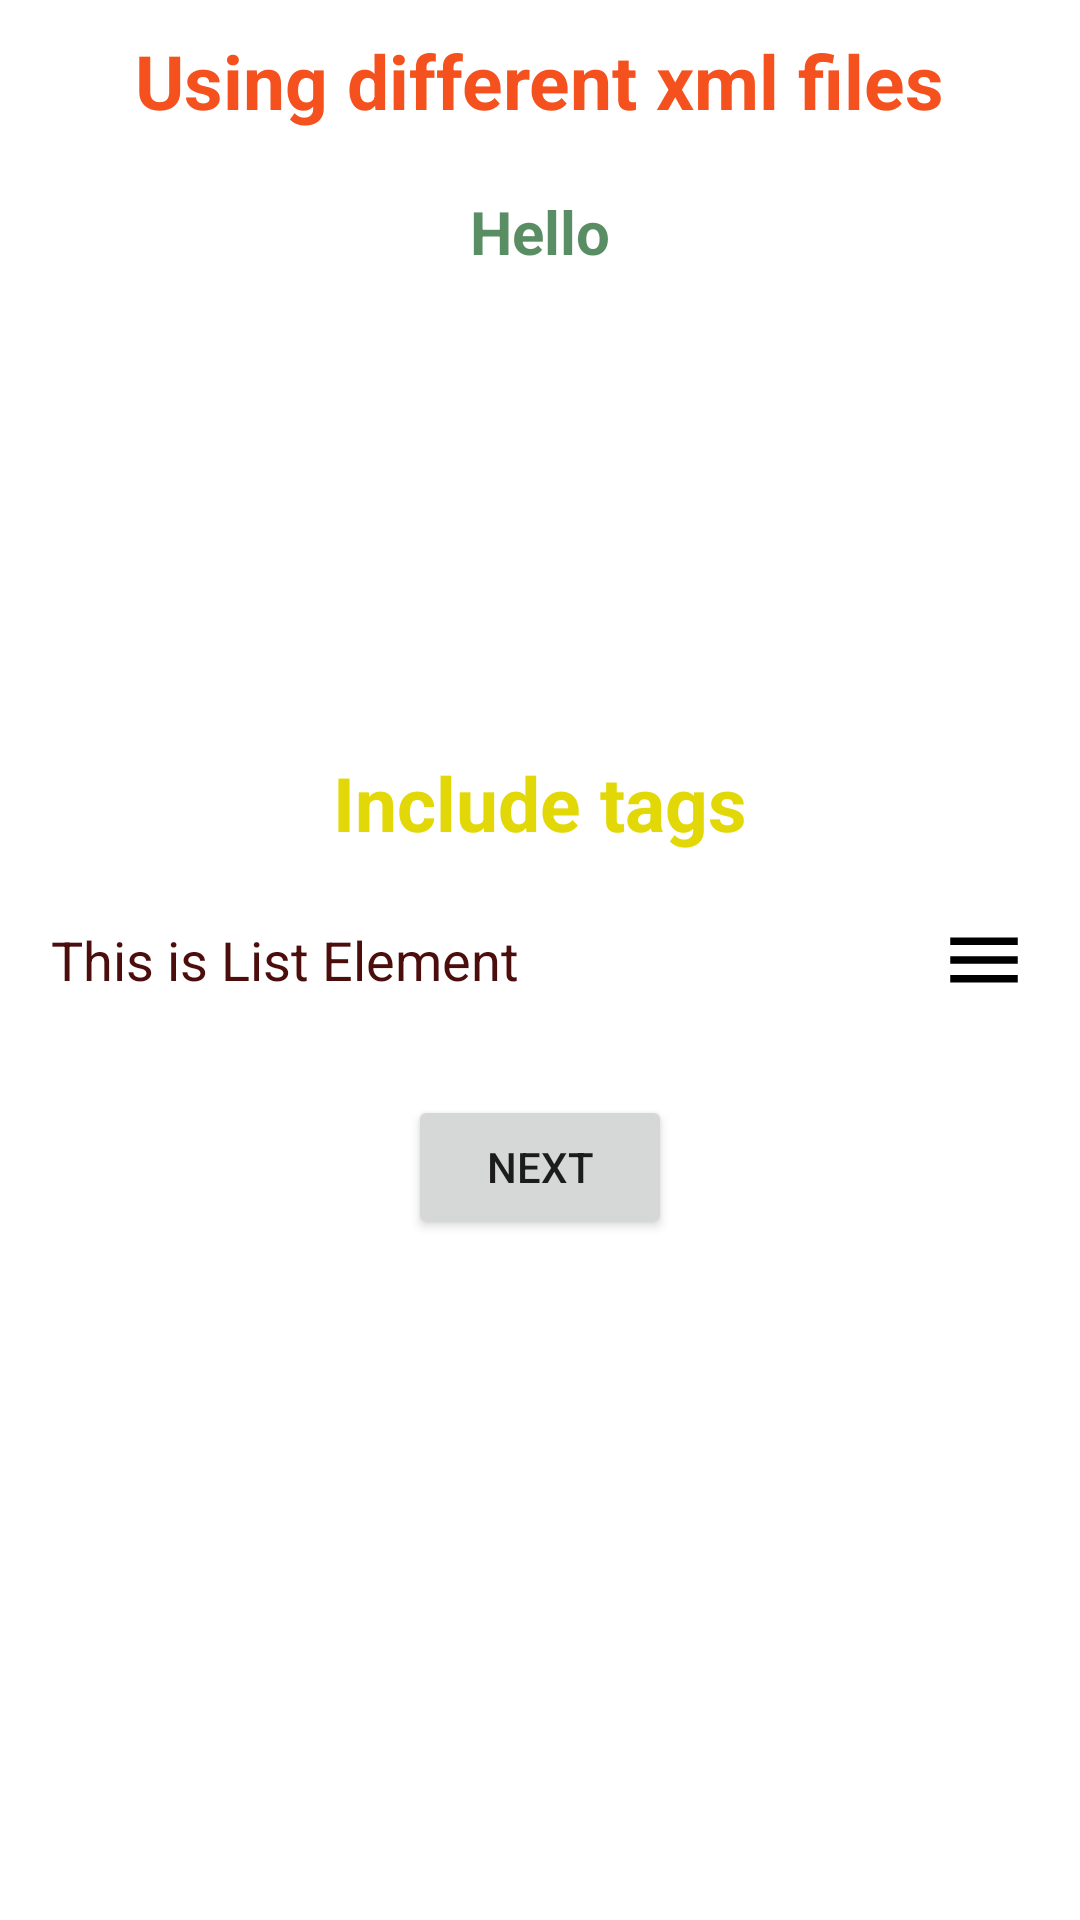

Where icons sit on this 1080px x 1920px app screen, as [x1,y1,x2,y2]:
menu: [950,937,1018,983]
